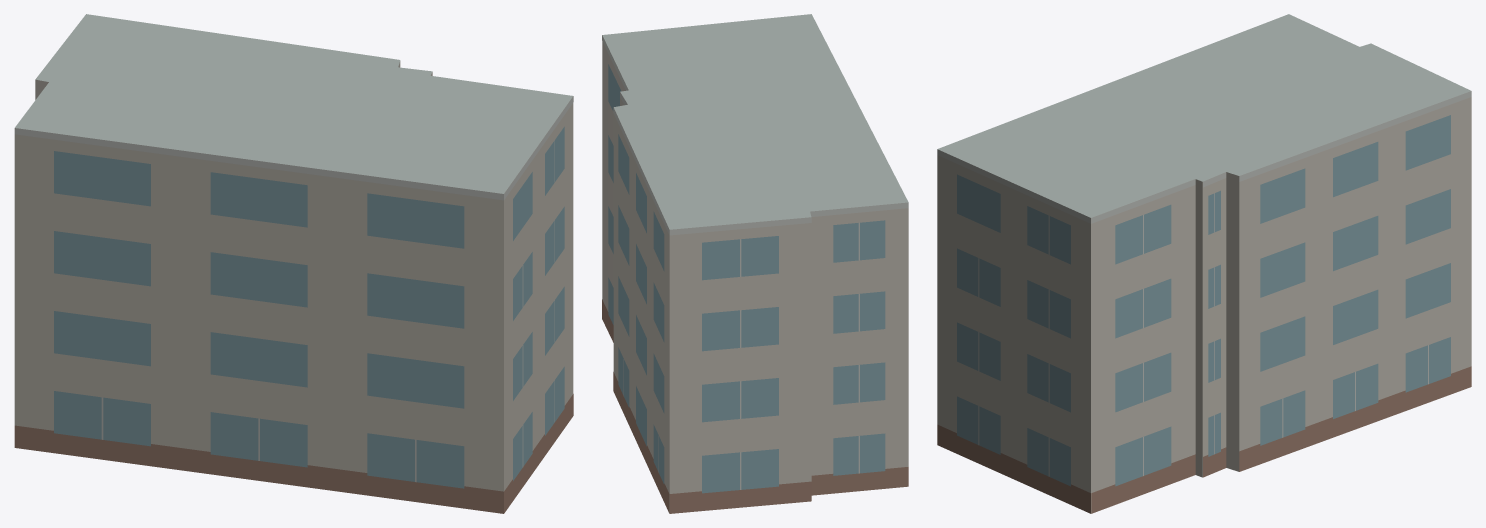
Rendered from survey-upis-32466738.glb.
The picture shows the model from 3 angles, left to right: view 1: azimuth 30°, elevation 25°; view 2: azimuth 150°, elevation 25°; view 3: azimuth 270°, elevation 25°; orthographic projection. The views are drawn at different scales.
Parts seen in each view (by area): view 1: survey-upis-32466738.tmp; view 2: survey-upis-32466738.tmp; view 3: survey-upis-32466738.tmp.
Part boxes in pixels (x1,y1,x2,y2): survey-upis-32466738.tmp: (14, 14, 573, 513); survey-upis-32466738.tmp: (602, 14, 908, 513); survey-upis-32466738.tmp: (937, 14, 1471, 513).
Size of the model in its own units: 18.05 by 12.2 by 19.98.
